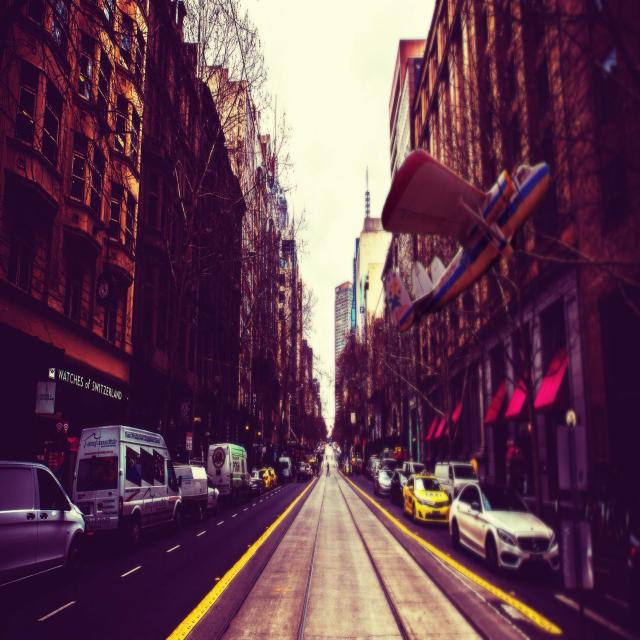airplane: (380, 147, 550, 332)
